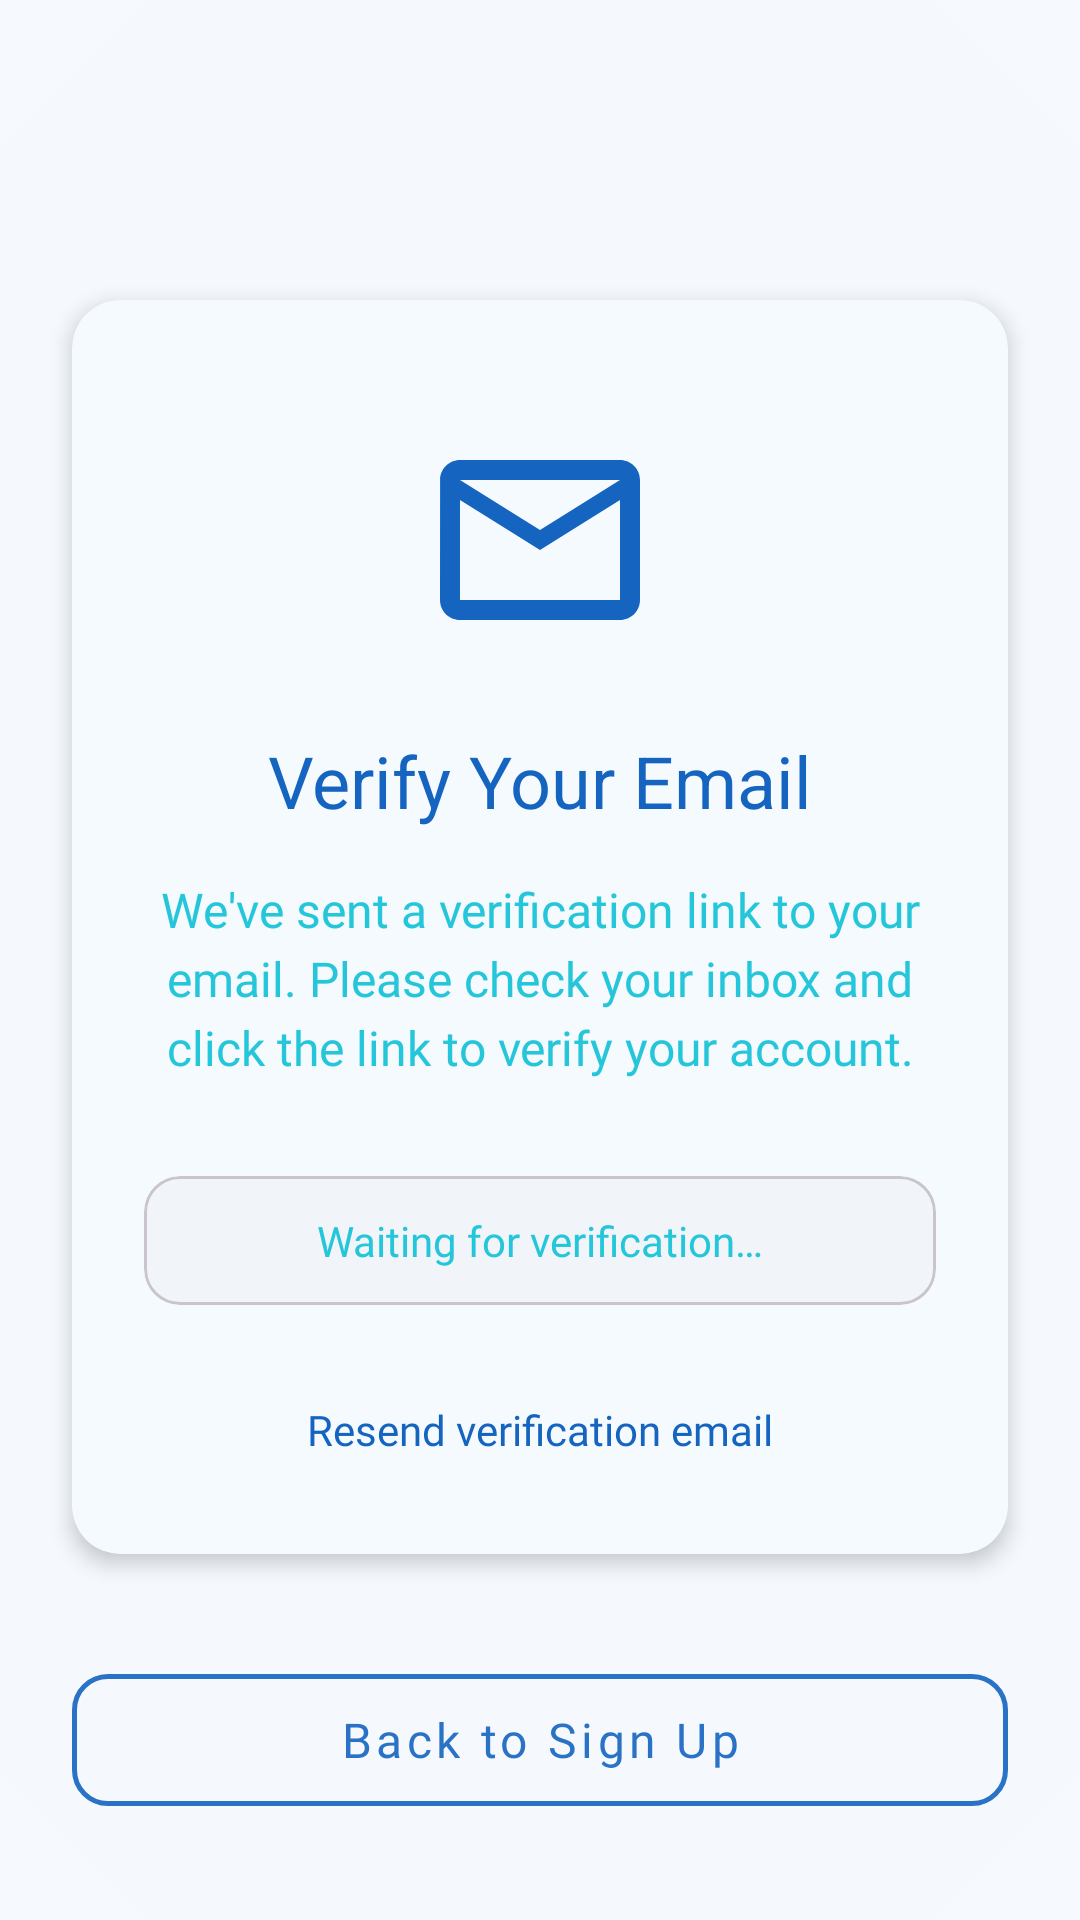

Icons on this 1080 × 1920 Android screen, each with its box as (x1, y1, x2, y2):
Email verification icon: (440, 460, 640, 620)
